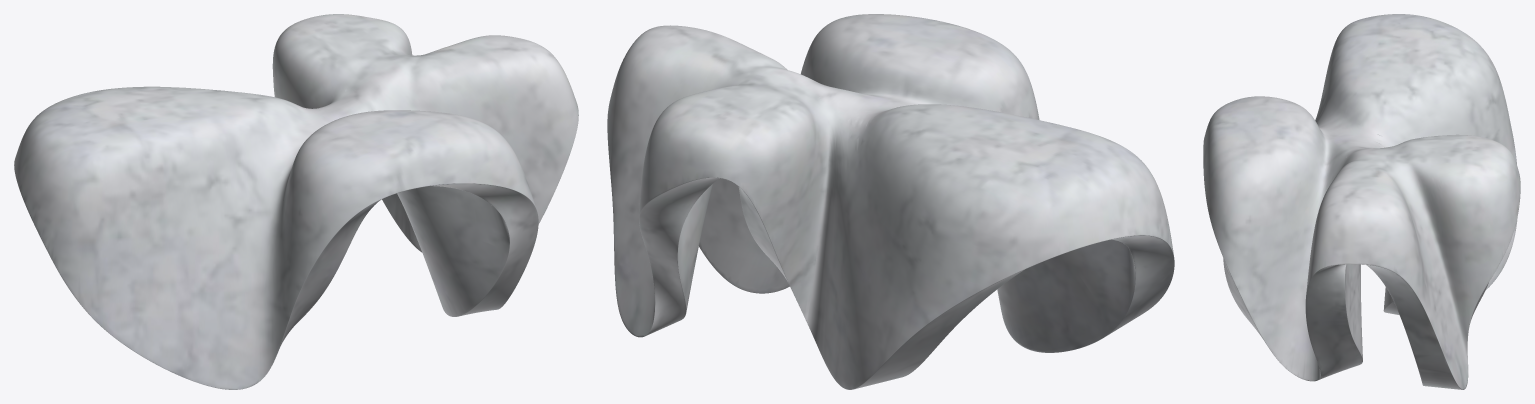
3 views of the same model, side by side, from view 1: azimuth 30°, elevation 25°; view 2: azimuth 150°, elevation 25°; view 3: azimuth 270°, elevation 25° (orthographic). The views are drawn at different scales.
Parts seen in each view (by area): view 1: art-stol-belyy-01; view 2: art-stol-belyy-01; view 3: art-stol-belyy-01.
Part boxes in pixels (x1,y1,x2,y2): art-stol-belyy-01: (14,14,578,389); art-stol-belyy-01: (607,14,1174,389); art-stol-belyy-01: (1203,14,1520,389).
Bounding box in the file's own units: 0.9869 × 0.4273 × 0.5977.
1 material, 1 textured.
